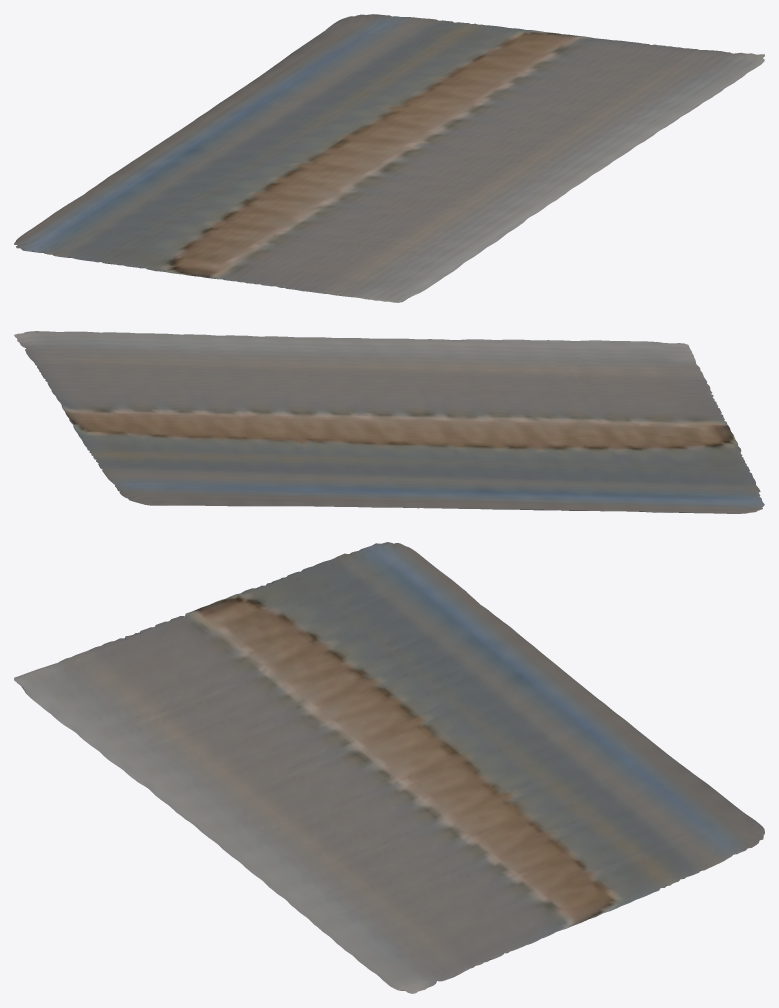
Rendered from rug-002.glb.
3 renders of one model, top to bottom at view 1: azimuth 30°, elevation 25°; view 2: azimuth 150°, elevation 25°; view 3: azimuth 270°, elevation 25°, orthographic. The views are drawn at different scales.
Visible parts, largest first — view 1: geometry_0; view 2: geometry_0; view 3: geometry_0.
Boxes of the visible parts, box(x1,y1,x2,y2) form: geometry_0: box(14, 14, 764, 302); geometry_0: box(14, 331, 764, 513); geometry_0: box(14, 542, 764, 993).
Size of the model in its own units: 200 by 1 by 140.
